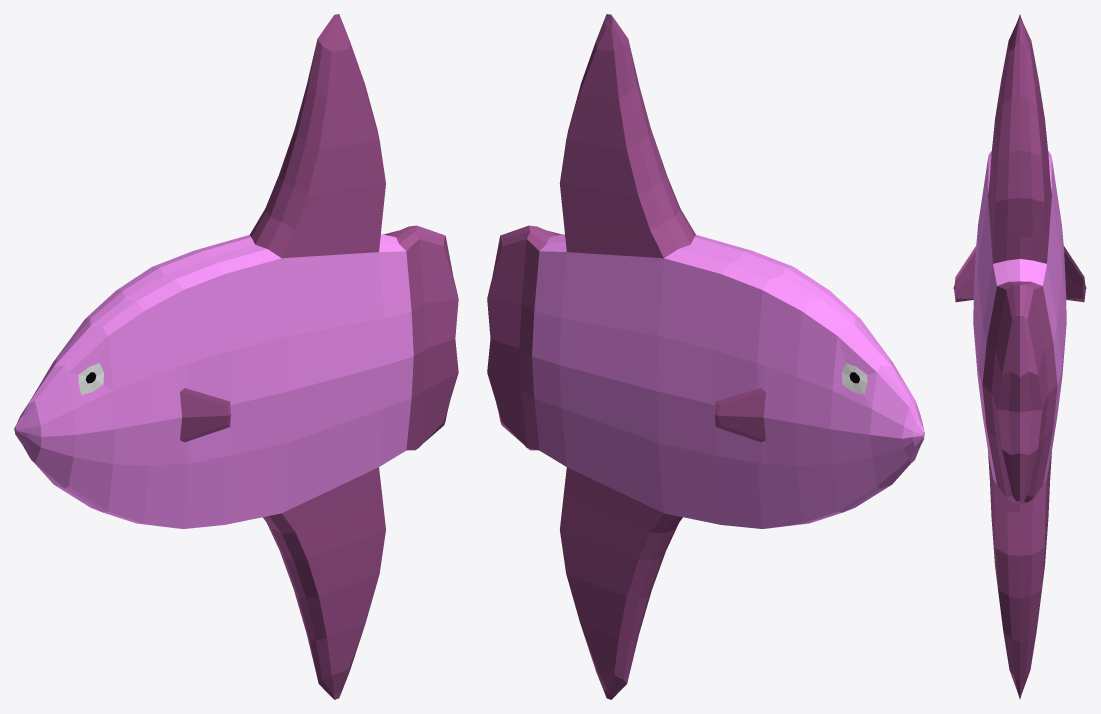
Rendered from pezLuna.fbx.
3 views of the same model, side by side, from view 1: azimuth 30°, elevation 25°; view 2: azimuth 150°, elevation 25°; view 3: azimuth 270°, elevation 25° (orthographic).
Parts seen in each view (by area): view 1: Cube; view 2: Cube; view 3: Cube.
Part boxes in pixels (left/top/right/bottom): Cube: left=14, top=14, right=458, bottom=699; Cube: left=487, top=14, right=924, bottom=699; Cube: left=953, top=14, right=1086, bottom=698.
Bounding box in the file's own units: 418 × 625 × 110.
